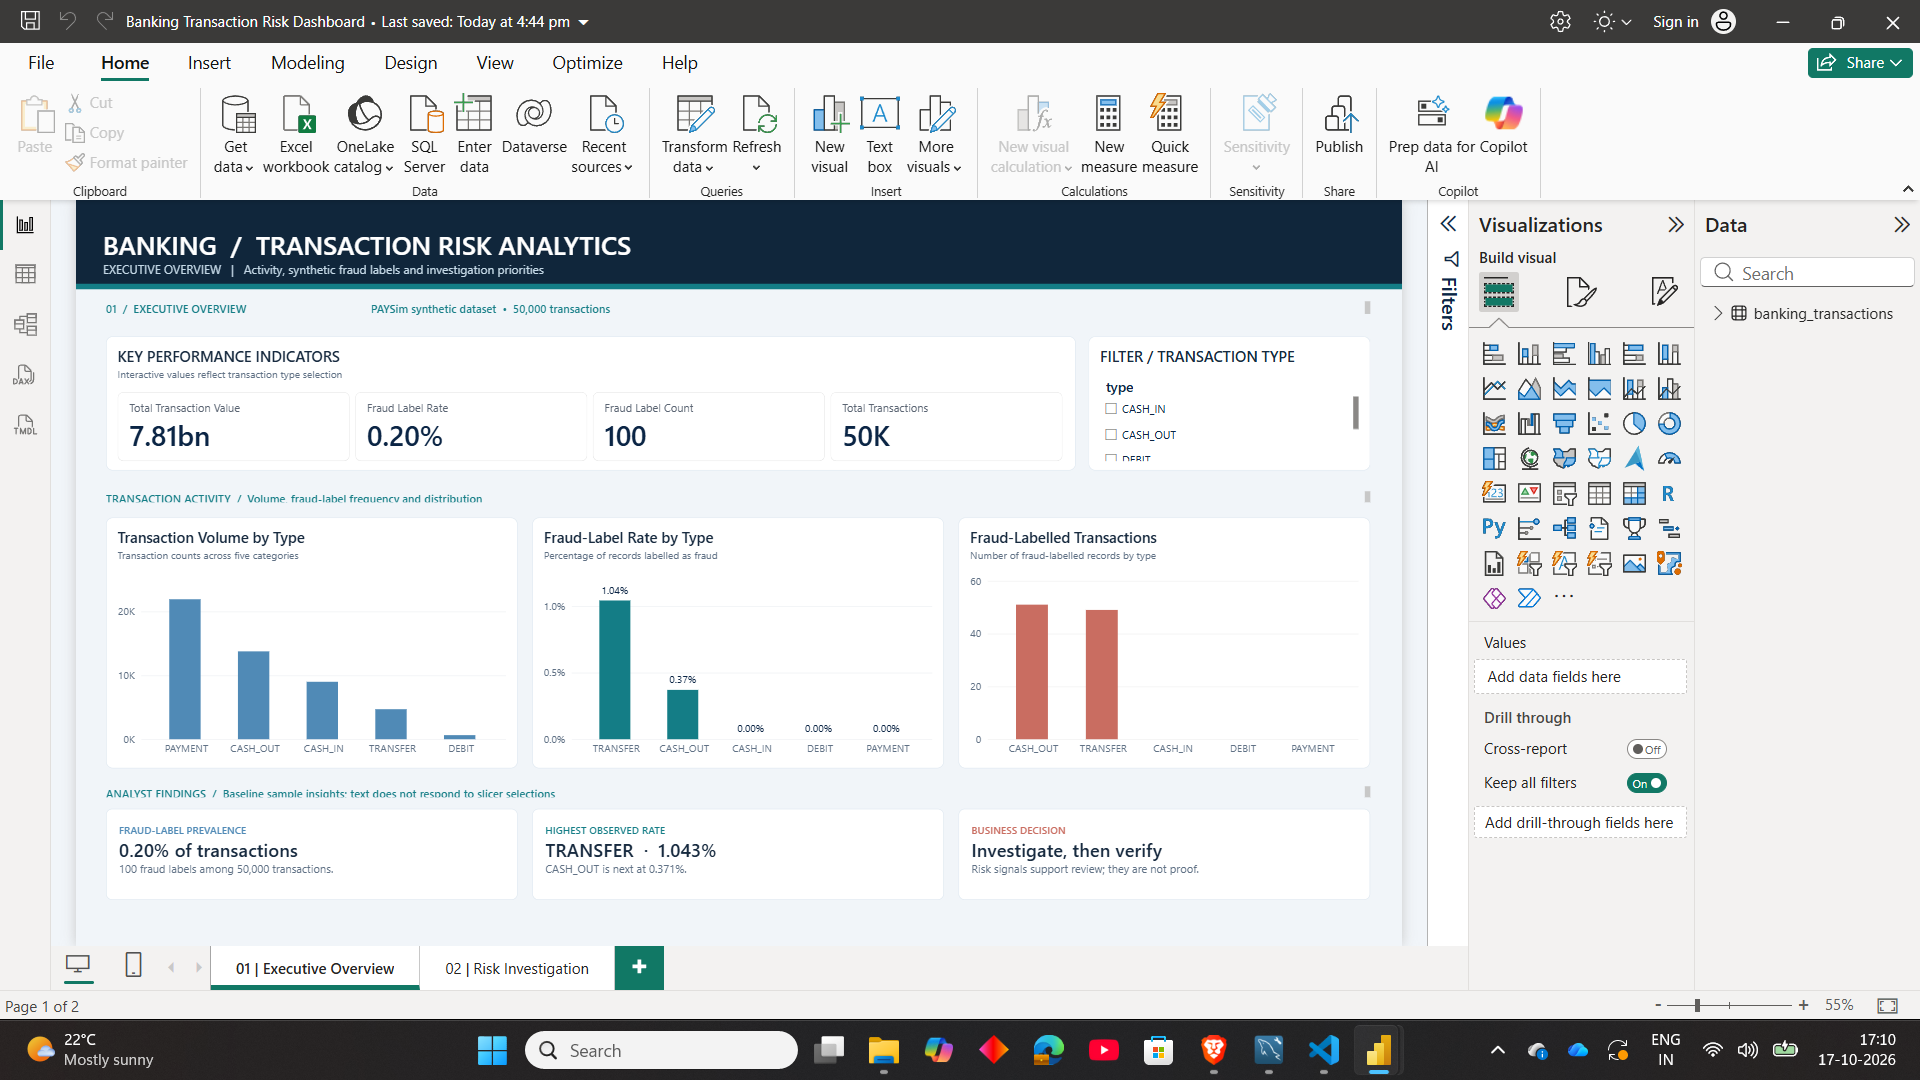

What the dashboard file says about the page in this screenshot:
{"tool":"powerbi","page":{"name":"01 | Executive Overview","canvas":[1920,1080],"ordinal":0},"visuals":[{"type":"textbox","box":[0,0,1920,122],"z":110},{"type":"textbox","box":[0,122,1920,6],"z":120},{"type":"textbox","box":[44,146,1830,28],"z":130},{"type":"cardVisual","title":"KEY PERFORMANCE INDICATORS","fields":{"Data":["banking_transactions.Total Transaction Value","banking_transactions.Fraud Label Rate","banking_transactions.Fraud Label Count","banking_transactions.Total Transactions"]},"box":[44,198,1404,194],"z":140},{"type":"slicer","title":"FILTER  /  TRANSACTION TYPE","fields":{"Values":["banking_transactions.type"]},"box":[1466,198,408,194],"z":150},{"type":"textbox","box":[44,421,1830,24],"z":160},{"type":"clusteredColumnChart","title":"Transaction Volume by Type","fields":{"Category":["banking_transactions.type"],"Y":["banking_transactions.Total Transactions"]},"box":[44,459,596,363],"z":170},{"type":"clusteredColumnChart","title":"Fraud-Label Rate by Type","fields":{"Category":["banking_transactions.type"],"Y":["banking_transactions.Fraud Label Rate"]},"box":[661,459,596,363],"z":180},{"type":"clusteredColumnChart","title":"Fraud-Labelled Transactions","fields":{"Category":["banking_transactions.type"],"Y":["banking_transactions.Fraud Label Count"]},"box":[1278,459,596,363],"z":190},{"type":"textbox","box":[44,848,1830,24],"z":200},{"type":"textbox","box":[44,881,596,132],"z":210},{"type":"textbox","box":[661,881,596,132],"z":220},{"type":"textbox","box":[1278,881,596,132],"z":230}]}

Visuals, with their boxes on the page's 1920x1080 design canvas (x1, y1, x2, y2). These are canvas units, not pixel positions in the 1920x1080 screenshot, which may show the page scaled, cropped or inside an application window:
textbox: bbox=[0, 0, 1920, 122]
textbox: bbox=[0, 122, 1920, 128]
textbox: bbox=[44, 146, 1874, 174]
"KEY PERFORMANCE INDICATORS" cardVisual: bbox=[44, 198, 1448, 392]
"FILTER  /  TRANSACTION TYPE" slicer: bbox=[1466, 198, 1874, 392]
textbox: bbox=[44, 421, 1874, 445]
"Transaction Volume by Type" clusteredColumnChart: bbox=[44, 459, 640, 822]
"Fraud-Label Rate by Type" clusteredColumnChart: bbox=[661, 459, 1257, 822]
"Fraud-Labelled Transactions" clusteredColumnChart: bbox=[1278, 459, 1874, 822]
textbox: bbox=[44, 848, 1874, 872]
textbox: bbox=[44, 881, 640, 1013]
textbox: bbox=[661, 881, 1257, 1013]
textbox: bbox=[1278, 881, 1874, 1013]
